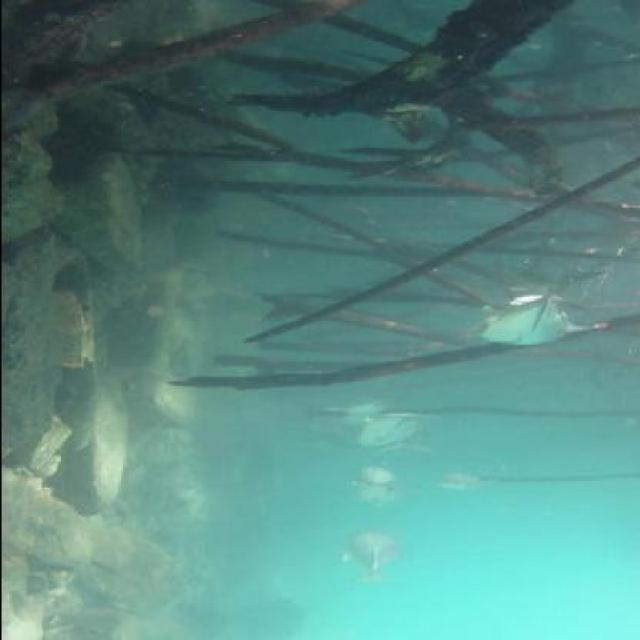Caranx_sexfasciatus_juvenile: (461, 287, 610, 355), (346, 405, 440, 453), (336, 525, 398, 589), (342, 463, 402, 514), (318, 391, 392, 424), (430, 468, 484, 494)
